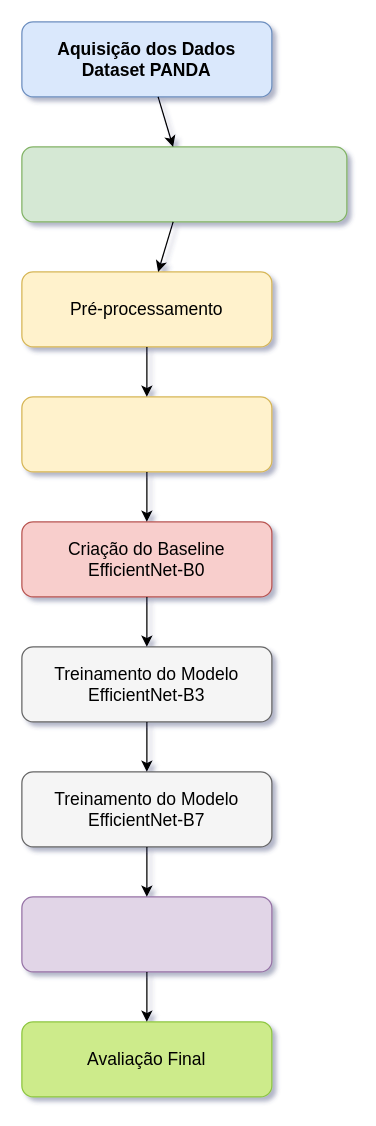
This 376x1126 diagram has some shape labels left out. Here are the shapes that lost their labels. From the top down, the box of each, then its label:
(21, 146, 347, 222): Split: Treinamento/Validação e Teste
(21, 396, 272, 472): Filtragem por Entropia
(21, 896, 272, 972): Criação do Ensemble B0 + B3 + B7
